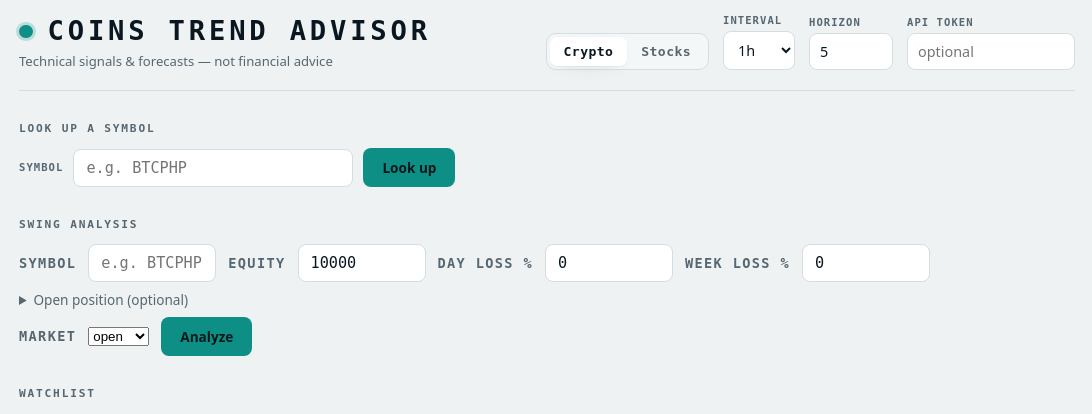
Test: resets the interval to the stock default when switching to stocks
Check: the dropdown labelled "Interval" shows "1h", box x1=723 y1=31 x2=795 y2=70
Click the button "Stocks": (666, 51) x1=627 y1=37 x2=705 y2=66
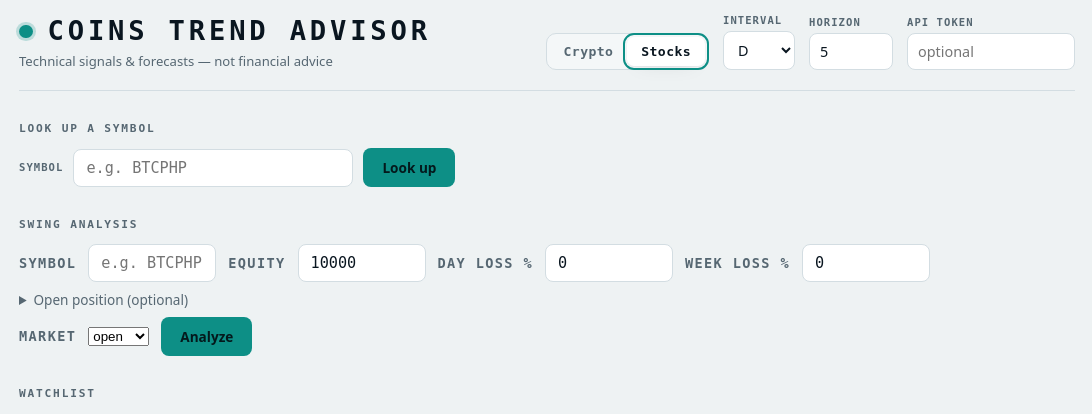
Check: the dropdown labelled "Interval" shows "D", box x1=723 y1=31 x2=795 y2=70
